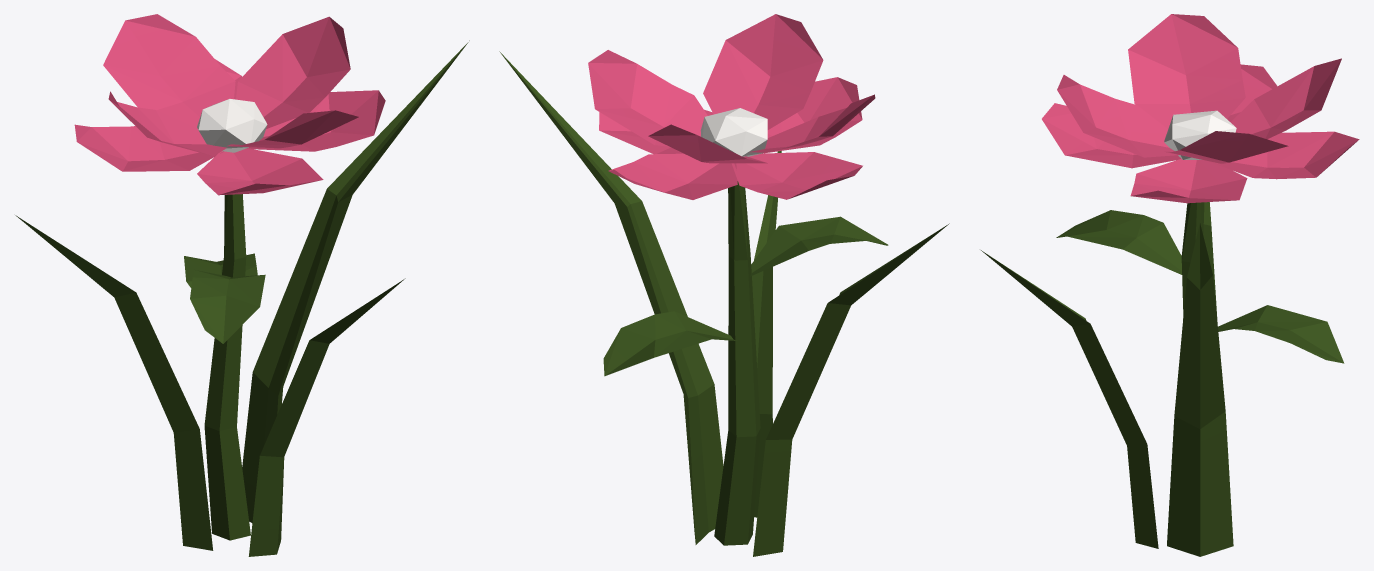
Rendered from Flower_04.fbx.
3 views of the same model, side by side, from view 1: azimuth 30°, elevation 25°; view 2: azimuth 150°, elevation 25°; view 3: azimuth 270°, elevation 25° (orthographic).
Parts seen in each view (by area): view 1: Flower_04; view 2: Flower_04; view 3: Flower_04.
Boxes of the visible parts, x1,y1,x2,y2 form: Flower_04: [15, 14, 469, 556]; Flower_04: [499, 14, 949, 556]; Flower_04: [981, 14, 1359, 556].
Size of the model in its own units: 44.1 by 43.54 by 32.34.
